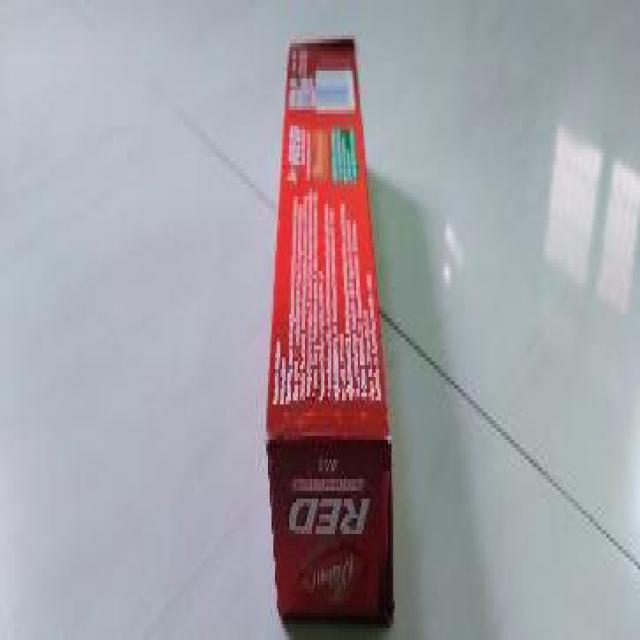tooth paste: (266, 28, 396, 640)
